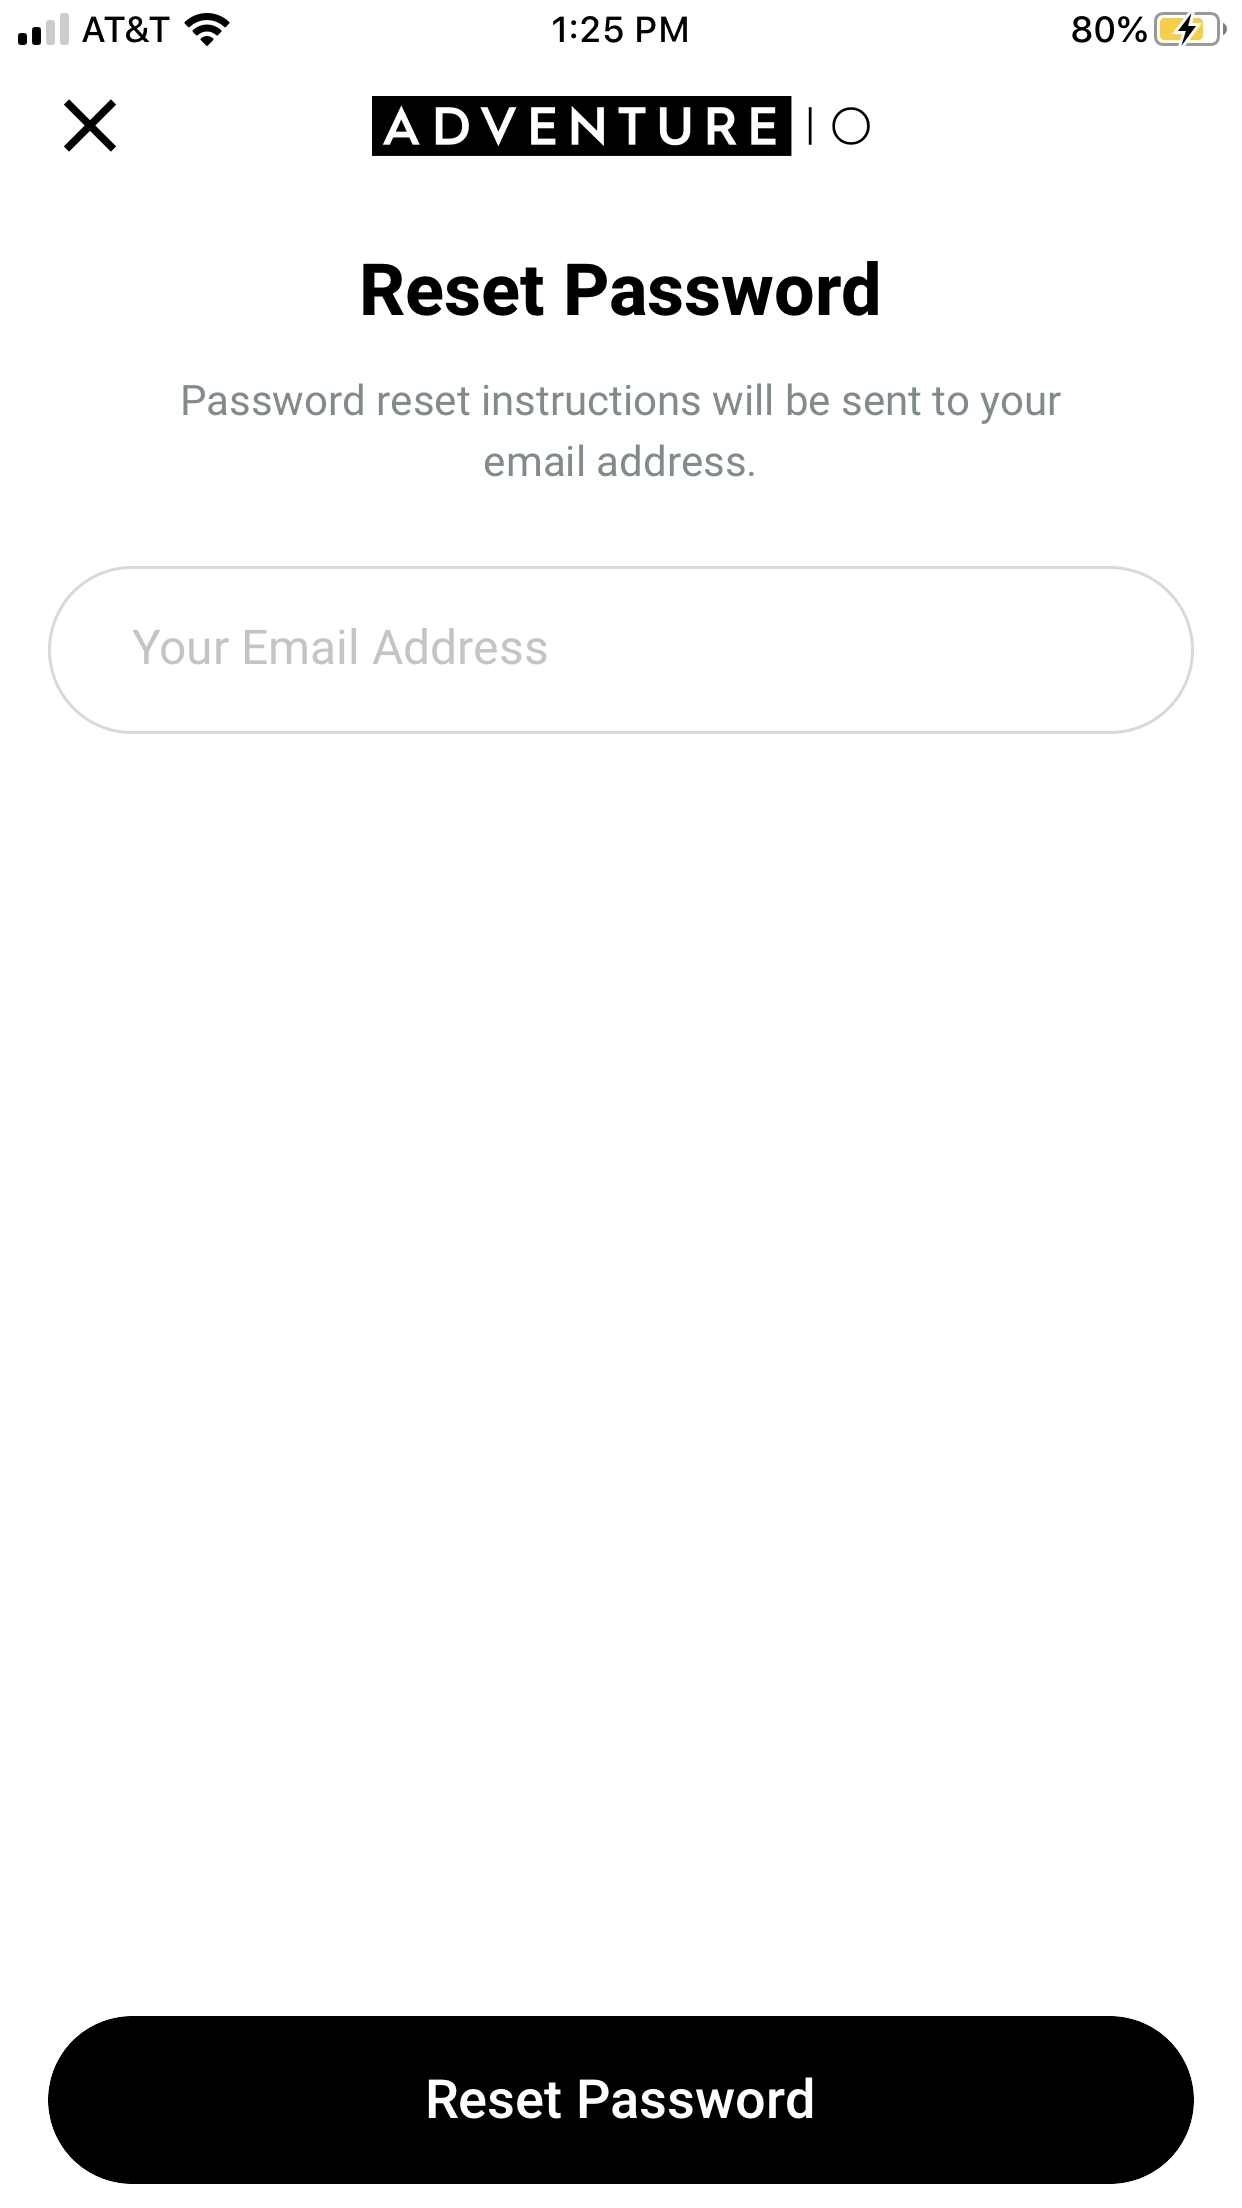EditText: (49, 566, 1195, 735)
Icon: (64, 99, 117, 155)
Image: (372, 94, 869, 156)
Text: (182, 384, 1062, 479), (362, 261, 880, 317), (133, 628, 547, 666)
TextButton: (49, 2015, 1195, 2185)
UpperTaskBar: (2, 2, 1242, 49)
